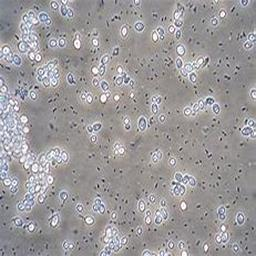Yeast: (73, 34, 82, 49), (177, 45, 185, 56), (139, 118, 146, 130), (85, 216, 94, 225), (100, 94, 108, 103), (135, 23, 144, 31), (20, 115, 28, 124), (113, 94, 121, 102), (86, 95, 93, 104), (92, 38, 99, 47), (35, 53, 42, 62), (121, 26, 127, 36), (139, 201, 145, 211), (91, 67, 98, 75), (59, 38, 65, 46), (145, 216, 151, 224), (129, 92, 135, 99), (50, 40, 56, 46), (31, 92, 36, 99)
